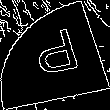P_S: (25, 25, 85, 85)
